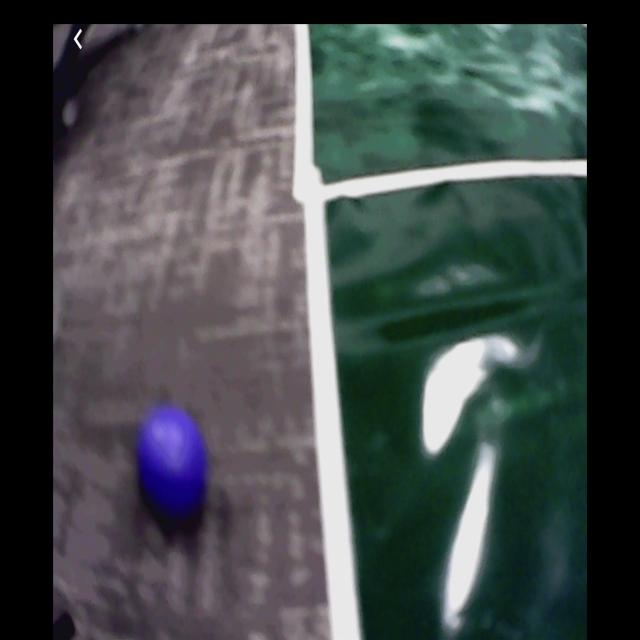ball: (139, 411, 206, 514)
